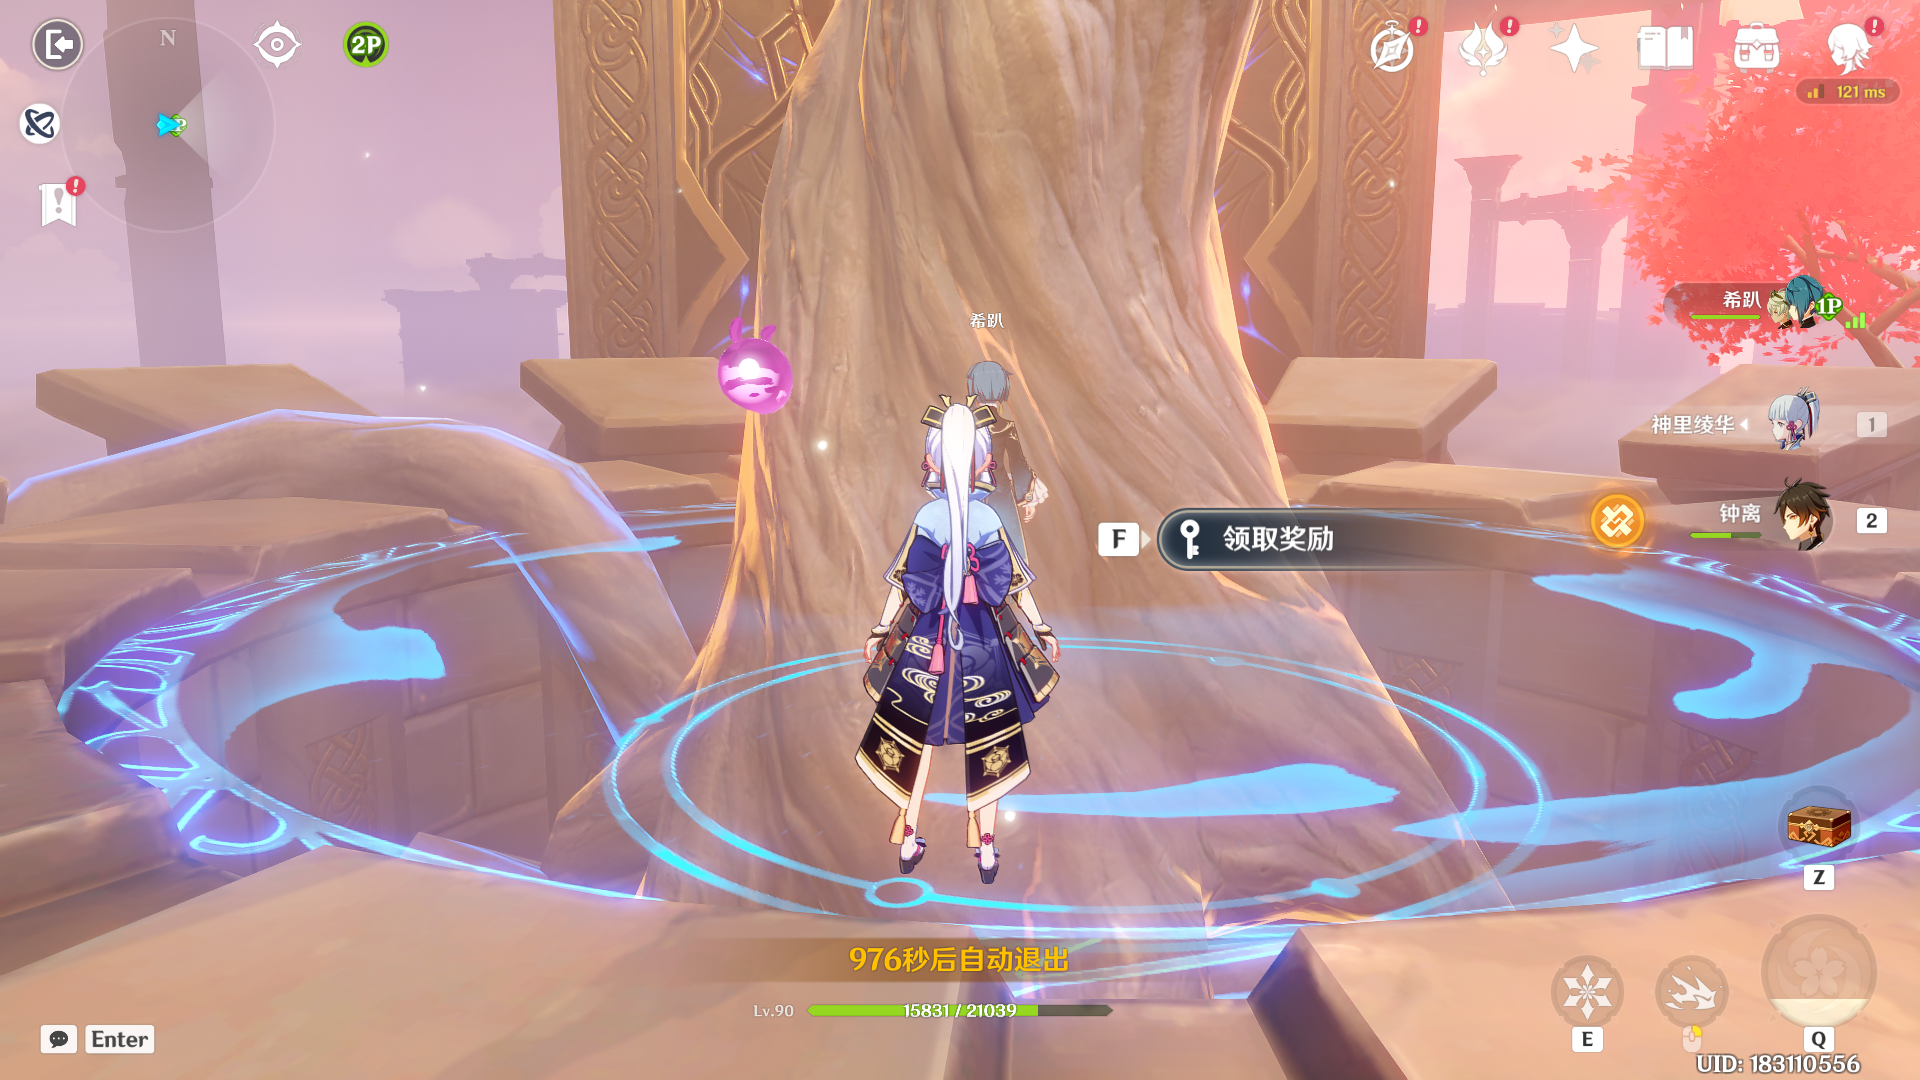character: (845, 394, 1075, 889)
